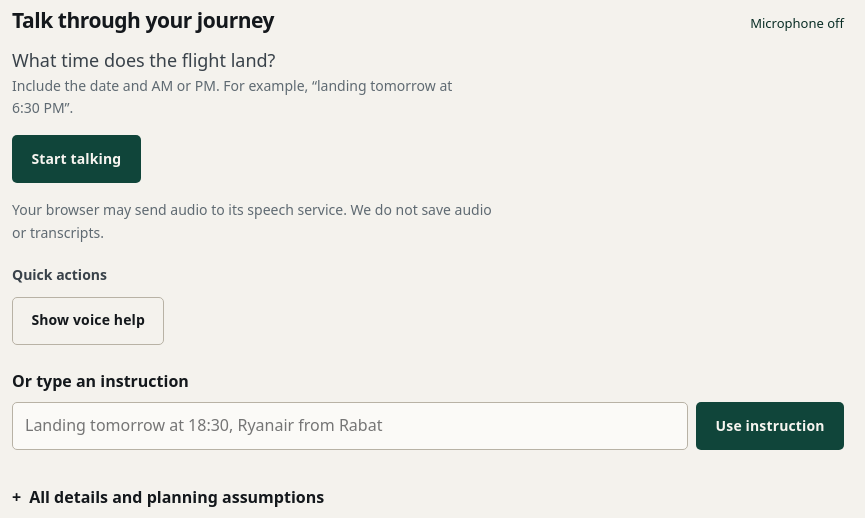
Test: voice controls and cancellation › keeps an obsolete flight lookup from replacing a newer correction
Type "landing tomorrow at 18:30, Ryanair from Rabat" into the field labelled "Or type an instruction" at (350, 426), box [12, 402, 688, 450]
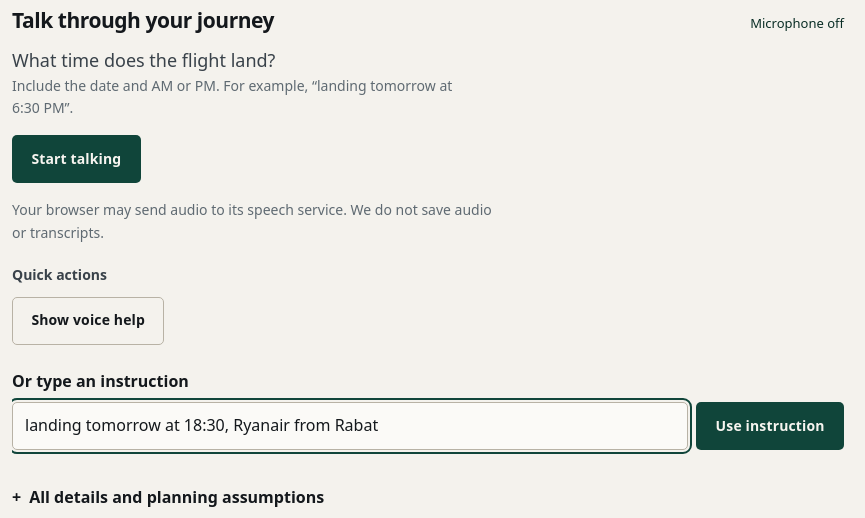
Click the button "Use instruction" at (770, 426), box [696, 402, 844, 450]
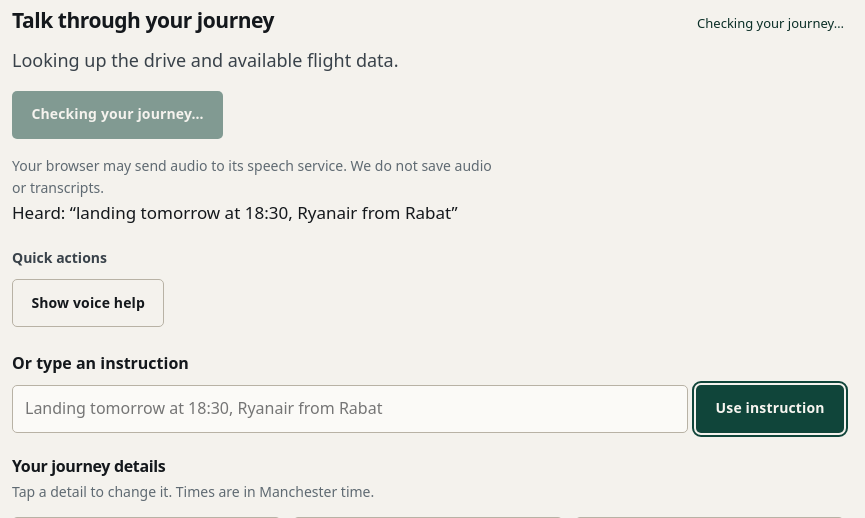
Type "actually 19:00" into the field labelled "Or type an instruction" at (350, 408), box [12, 384, 688, 432]
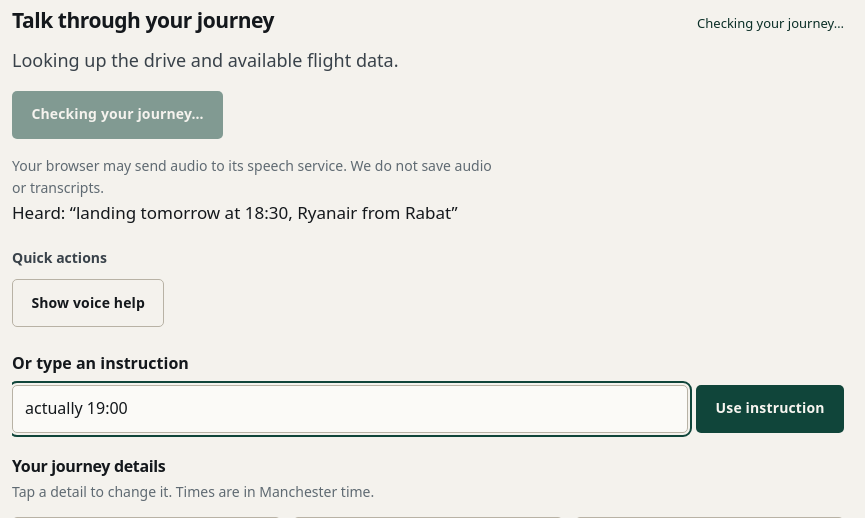
Click the button "Use instruction" at (770, 408), box [696, 384, 844, 432]
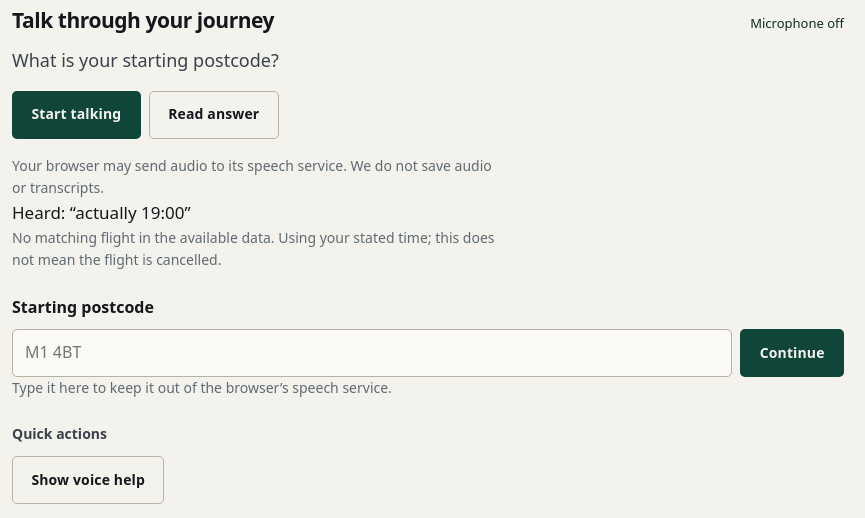
Now the text "What is your starting postcode?" is shown, box [12, 48, 279, 72]
